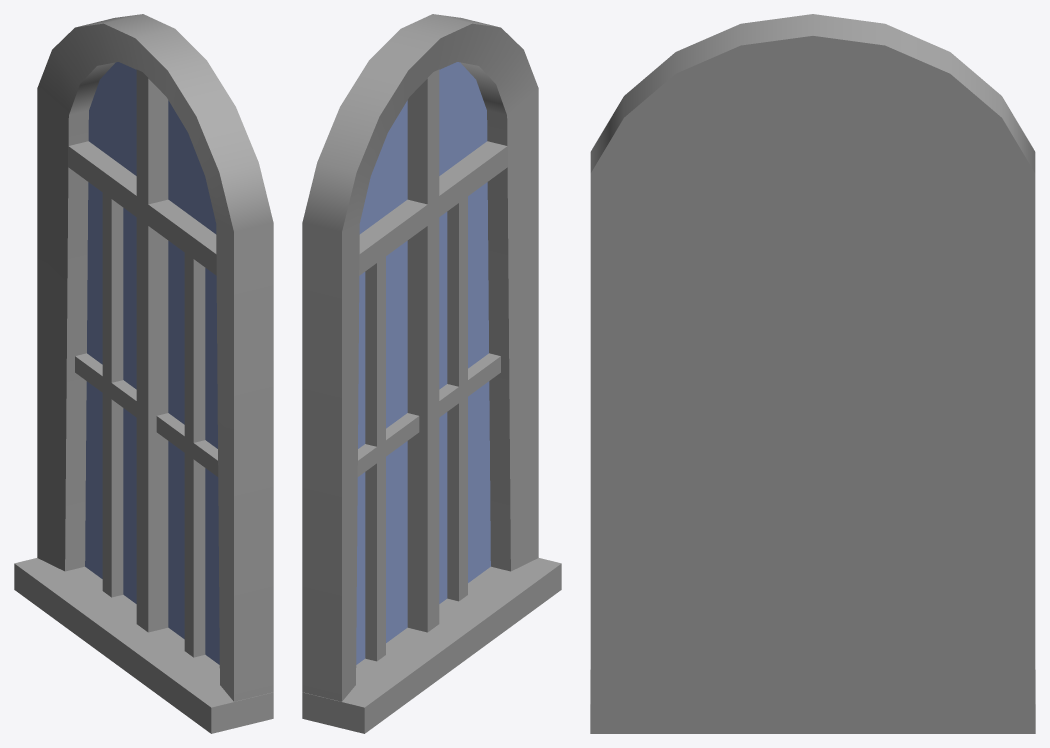
The model's file is Town_hall_Archwindow_Big.fbx.
3 renders of one model, left to right at view 1: azimuth 30°, elevation 25°; view 2: azimuth 150°, elevation 25°; view 3: azimuth 270°, elevation 25°, orthographic. The views are drawn at different scales.
Visible parts, largest first — view 1: Town_hall_Archwindow_Big; view 2: Town_hall_Archwindow_Big; view 3: Town_hall_Archwindow_Big.
Part boxes in pixels (x1,y1,x2,y2): Town_hall_Archwindow_Big: (14, 14, 273, 733); Town_hall_Archwindow_Big: (302, 14, 561, 733); Town_hall_Archwindow_Big: (590, 14, 1035, 733).
Bounding box in the file's own units: 22.94 × 217 × 125.
